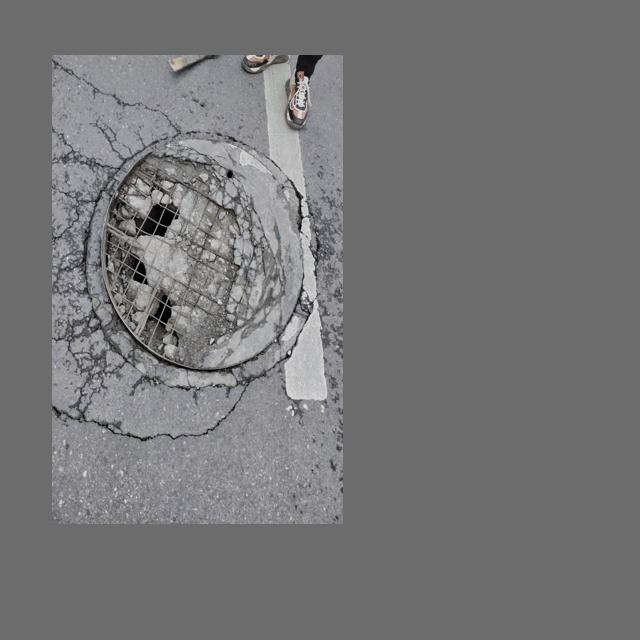broke: (100, 132, 316, 377)
